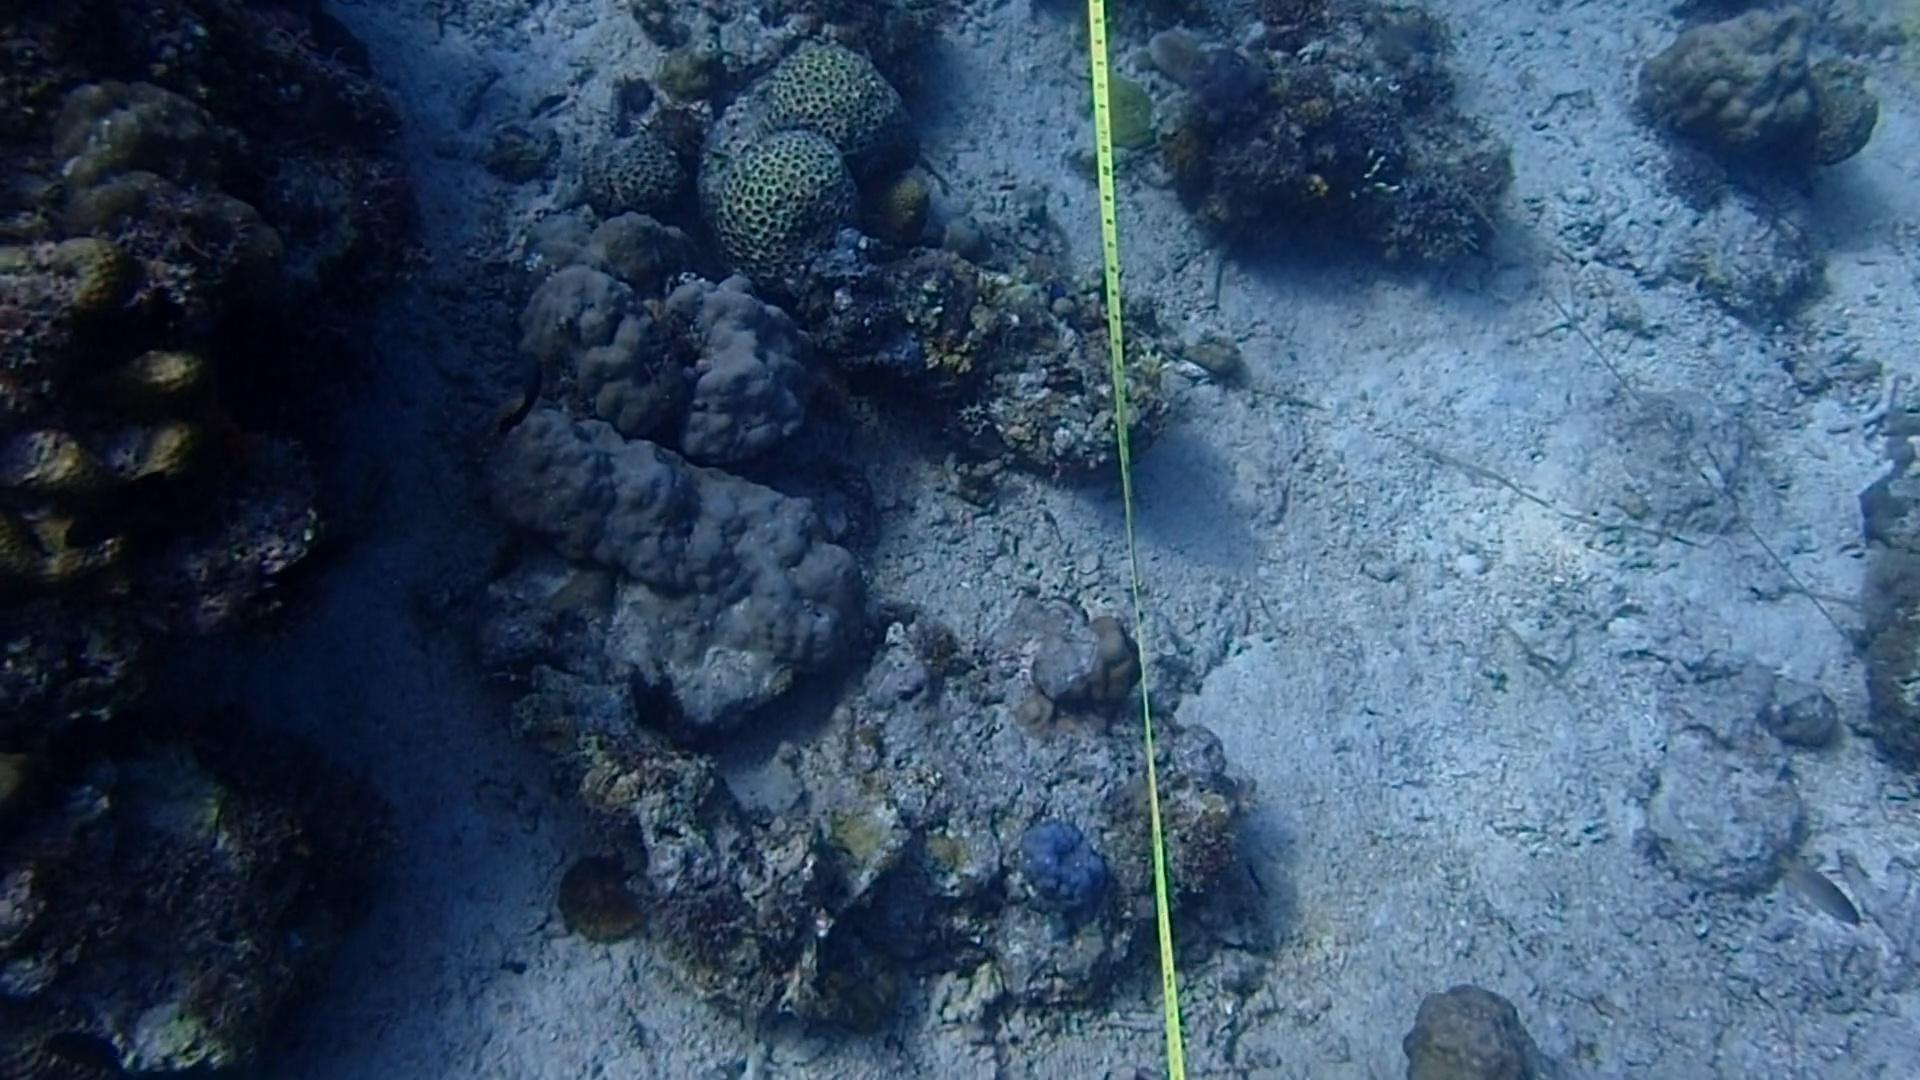Dark Fish: (70, 471, 210, 580), (460, 334, 564, 458), (50, 313, 191, 404), (45, 1013, 119, 1069)
Light Fish: (1788, 851, 1862, 932)
